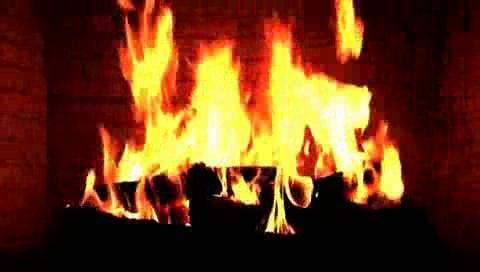fire: (95, 15, 394, 219)
